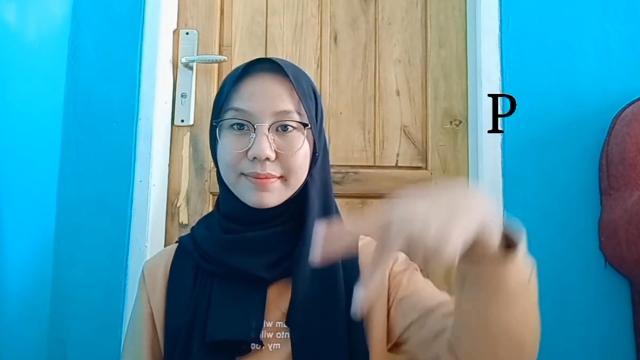P: (309, 188, 497, 322)
